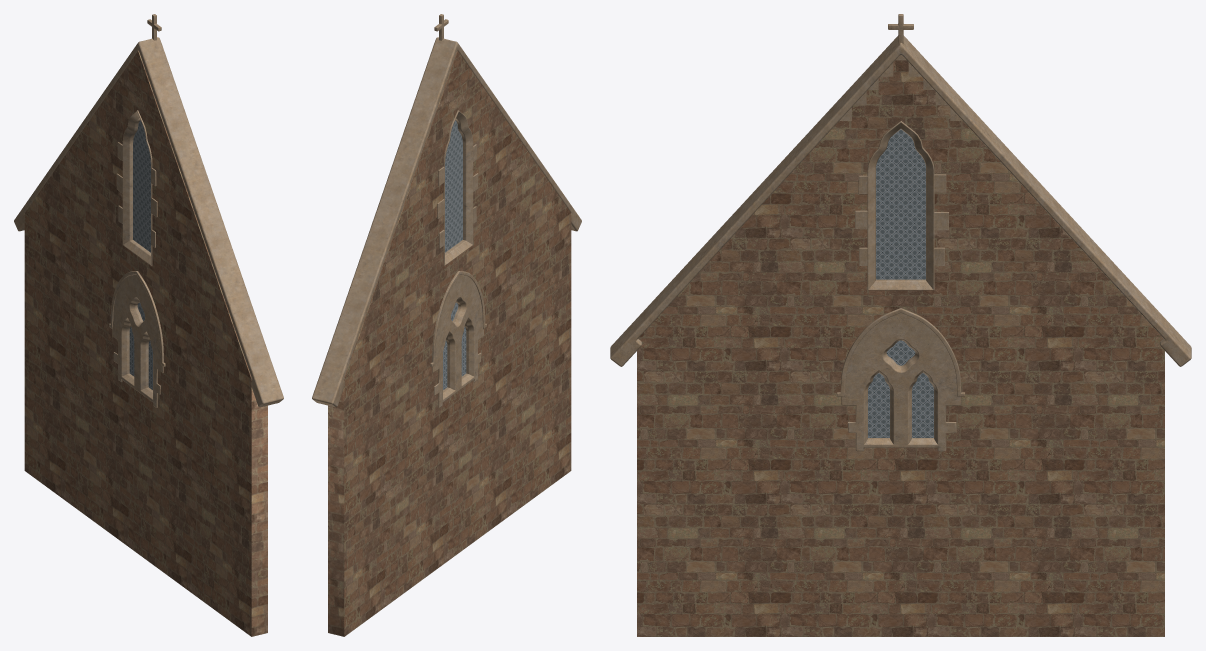
Rendered from SM_ChurchC.fbx.
3 renders of one model, left to right at view 1: azimuth 30°, elevation 25°; view 2: azimuth 150°, elevation 25°; view 3: azimuth 270°, elevation 25°, orthographic. The views are drawn at different scales.
Visible parts, largest first — view 1: SM_ChurchC_LOD0; view 2: SM_ChurchC_LOD0; view 3: SM_ChurchC_LOD0.
Part boxes in pixels (x1,y1,x2,y2): SM_ChurchC_LOD0: (14, 14, 283, 636); SM_ChurchC_LOD0: (312, 14, 581, 636); SM_ChurchC_LOD0: (610, 14, 1191, 636).
Bounding box in the file's own units: 43.22 × 792 × 936.
3 materials, 3 textured.
